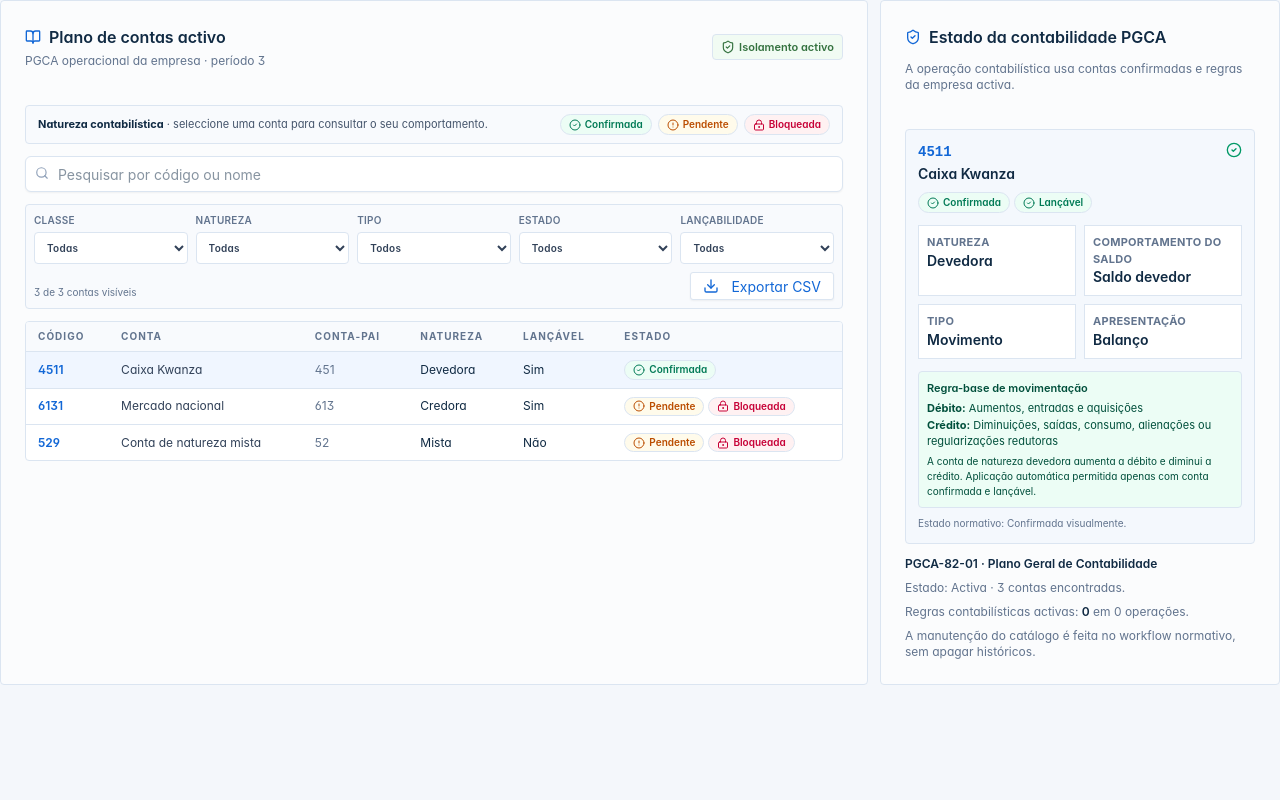
Test case: protótipo do motor contabilístico › explica a natureza mista sem inventar regras de movimento
Click the text "529".
click(49, 442)  # box [26,424,109,460]
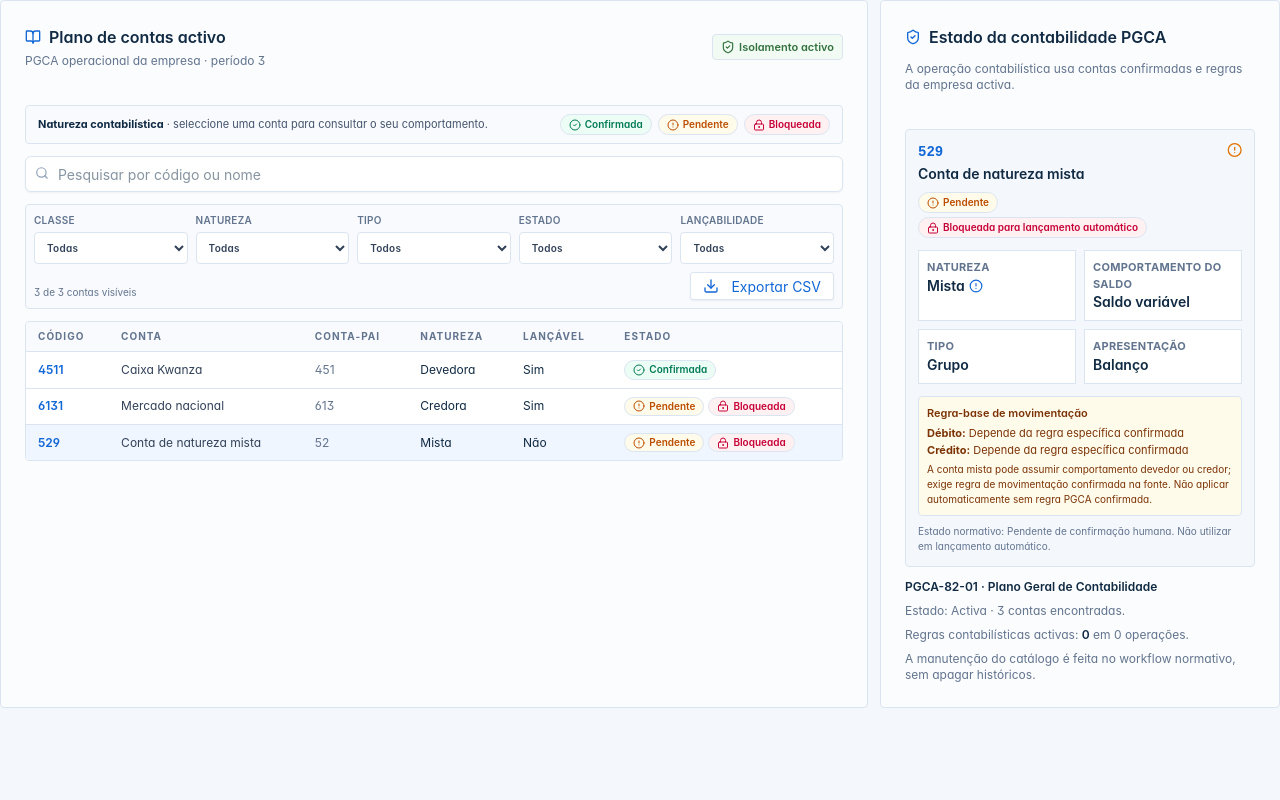
Focus the button named "Explicação da natureza mista" at (976, 286), box [969,278,983,292]
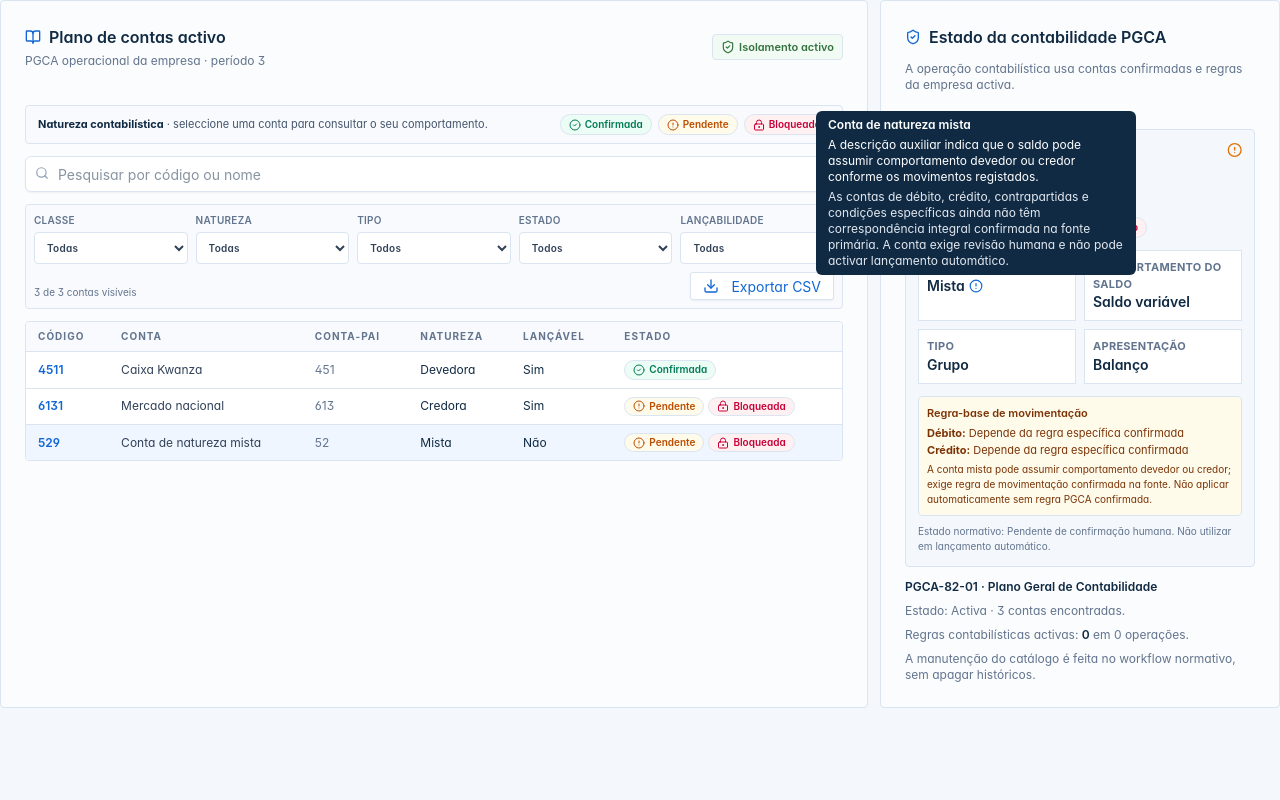
Result: the tooltip shows "Conta de natureza mista" at [828,117,971,132]
Result: the tooltip shows "não têm correspondência integral confirmada na fonte primária" at [828,189,1123,268]
